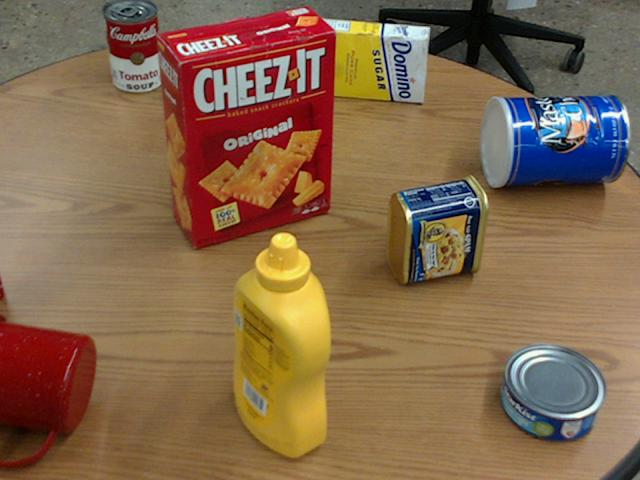cracker_box: (156, 7, 336, 247)
gelatin_box: (0, 275, 4, 296)
master_chef_can: (479, 94, 627, 186)
mug: (0, 314, 94, 462)
mustard_bottle: (233, 232, 328, 456)
potted_meat_can: (386, 173, 488, 283)
sugar_box: (293, 16, 431, 101)
tomato_soup_can: (103, 0, 163, 92)
tuna_fish_can: (499, 343, 603, 439)
